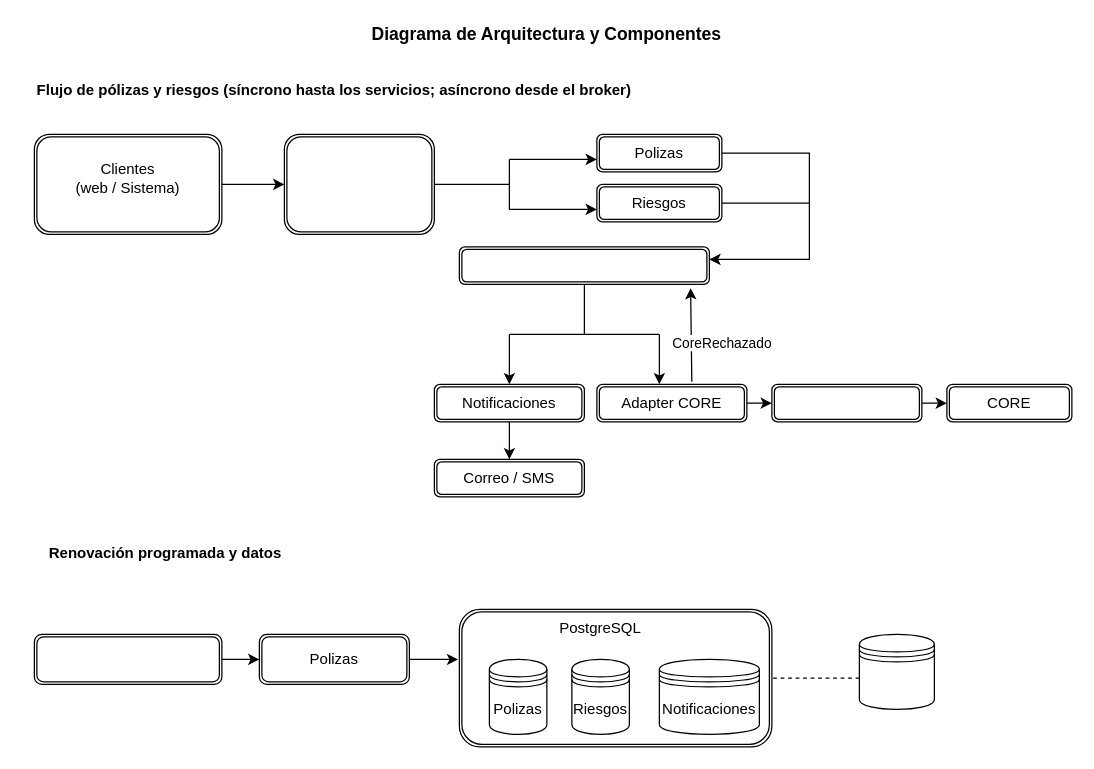
Image size: 1094x769. Some labels were removed from this diagram. The centre of each missing label's shape, as x and y in pixels:
API Gateway: the point at 358,183
Broker de mensajes: the point at 583,265
Replica: the point at 896,671
Scheduler de renovaciones: the point at 127,658
WebLogic: the point at 846,402
